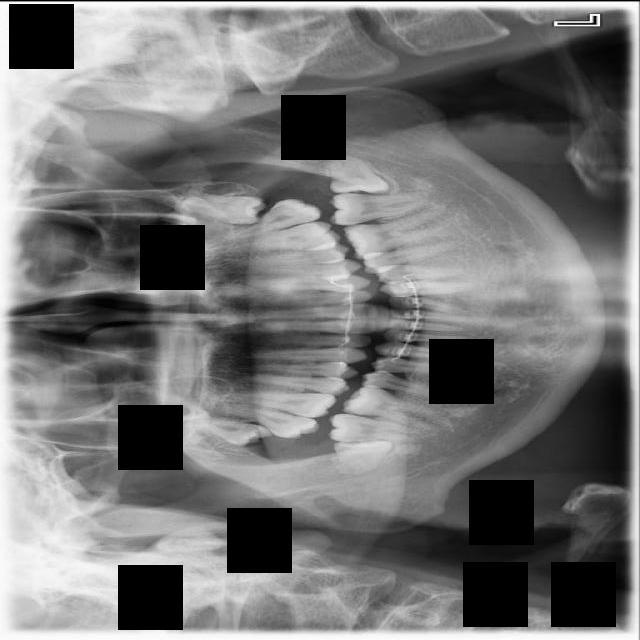3M ESPE Implant: (180, 409, 275, 452)
73: (617, 10, 623, 18)
BioHorizons Implant: (217, 189, 324, 248)
Biomet 3i Implant: (323, 152, 389, 194)
Blue Sky Bio Implant: (328, 192, 432, 225)
Caries: (224, 401, 321, 443)
Implant: (327, 413, 425, 442)
Keystone Dental Implant: (333, 436, 394, 478)
